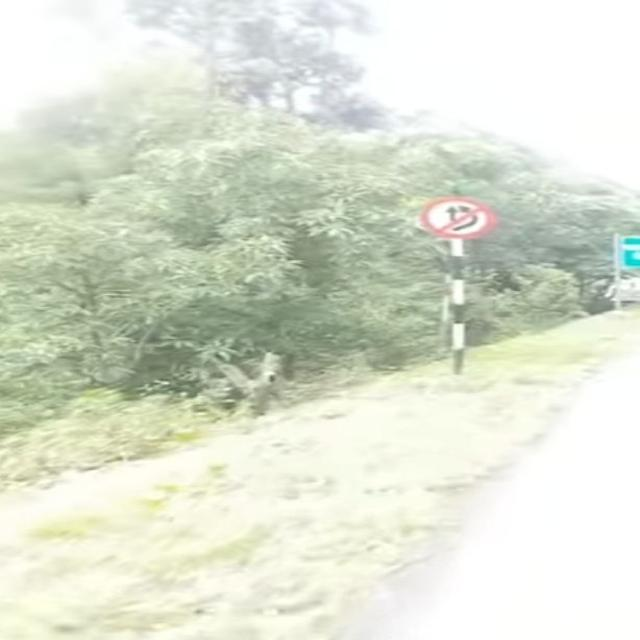overtaking prohibited: (419, 195, 495, 241)
